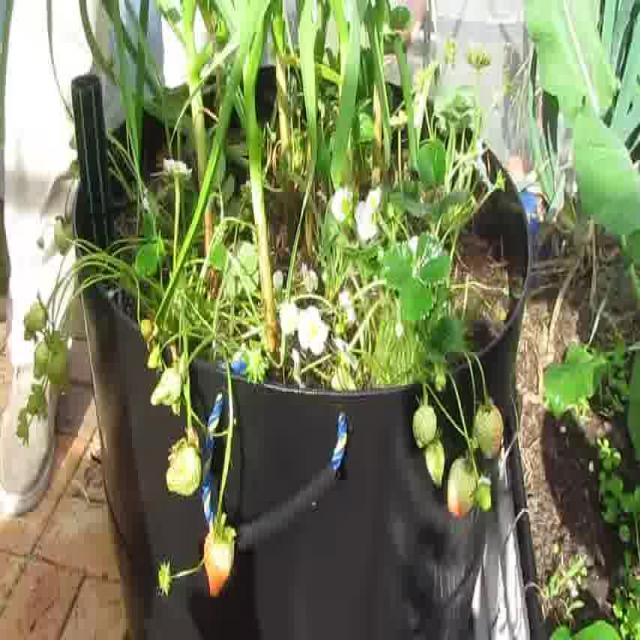Fruta sana: (204, 512, 236, 598), (165, 436, 203, 496), (45, 330, 71, 396), (152, 364, 182, 408), (22, 290, 50, 332), (473, 469, 492, 512), (34, 340, 54, 378), (155, 554, 173, 596), (28, 384, 48, 414), (146, 341, 164, 368), (17, 410, 29, 448), (23, 316, 38, 342), (140, 315, 152, 345), (434, 373, 446, 392), (70, 160, 80, 177), (69, 134, 78, 152)
Moho gris: (472, 395, 504, 459), (448, 452, 478, 520), (425, 426, 445, 490), (411, 404, 437, 450), (55, 214, 74, 256)
